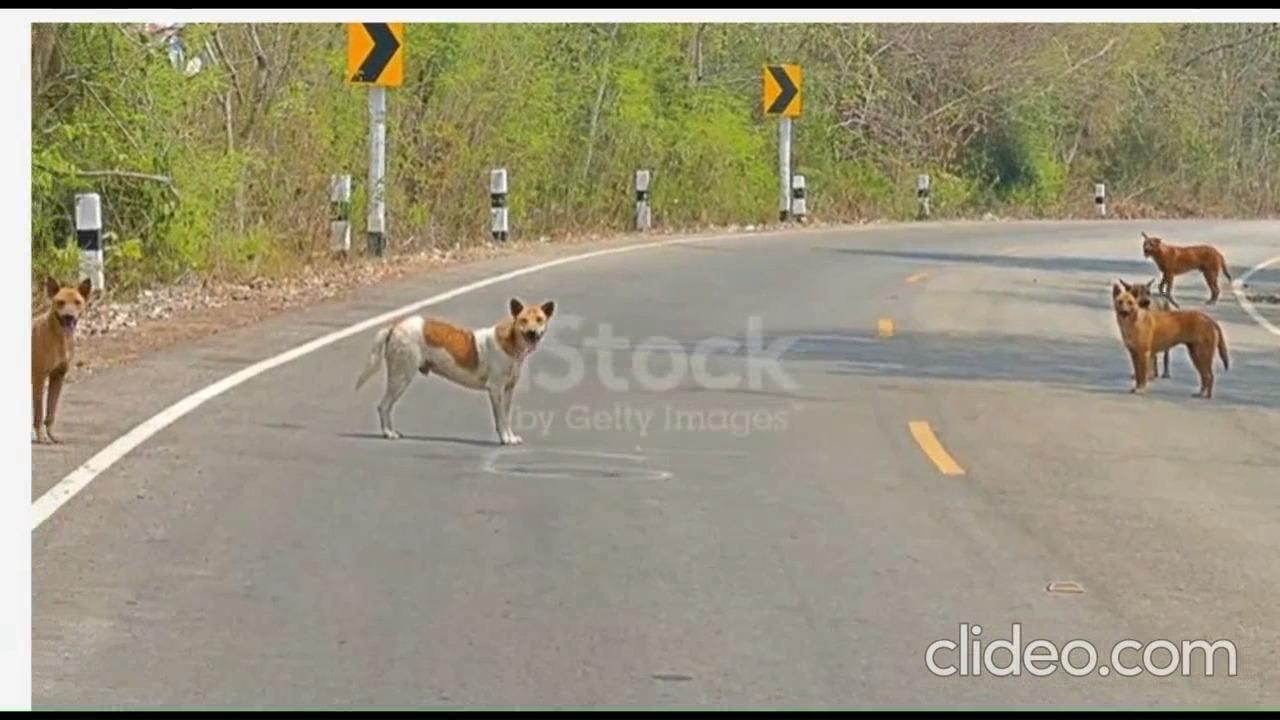dog: (362, 296, 562, 448), (1109, 275, 1232, 402), (35, 277, 101, 440), (1137, 230, 1233, 307)
